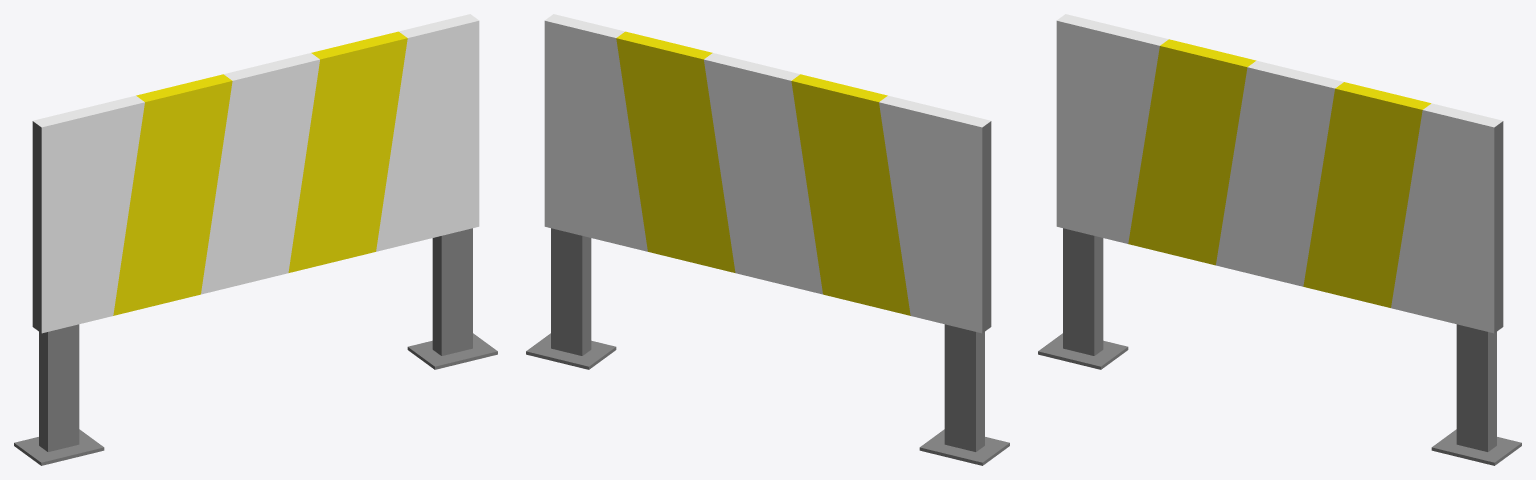
File: Obstacle1.fbx
The picture shows the model from 3 angles, left to right: view 1: azimuth 30°, elevation 25°; view 2: azimuth 150°, elevation 25°; view 3: azimuth 330°, elevation 25°; orthographic projection.
Parts seen in each view (by area): view 1: Box001, Box002, Box003; view 2: Box001, Box002, Box003; view 3: Box001, Box003, Box002.
Boxes of the visible parts, x1,y1,x2,y2 form: Box001: (32, 14, 479, 333); Box002: (14, 324, 104, 465); Box003: (407, 228, 497, 369); Box001: (544, 14, 991, 333); Box002: (919, 324, 1009, 465); Box003: (526, 228, 616, 369); Box001: (1056, 14, 1503, 333); Box003: (1431, 324, 1521, 465); Box002: (1038, 228, 1128, 369).
Size of the model in its own units: 114 by 11.81 by 78.74.
